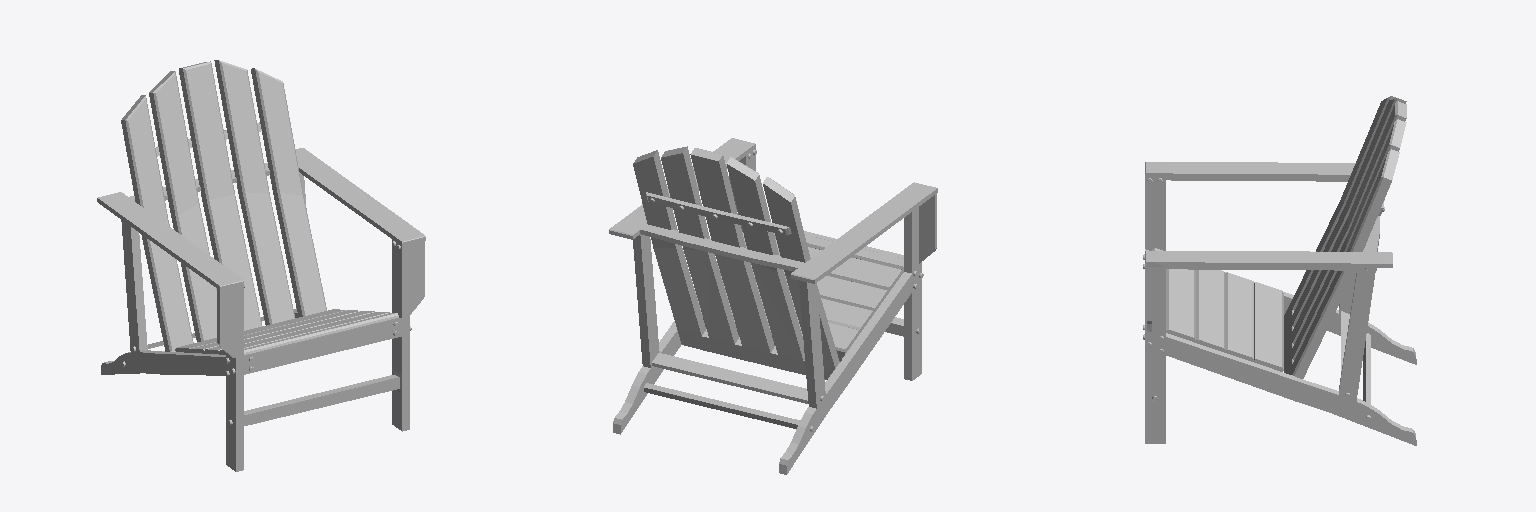
Rendered from Texture_Chair.obj.
3 renders of one model, left to right at view 1: azimuth 30°, elevation 25°; view 2: azimuth 150°, elevation 25°; view 3: azimuth 270°, elevation 25°, orthographic.
Parts seen in each view (by area): view 1: ChairV2 chairBody; view 2: ChairV2 chairBody; view 3: ChairV2 chairBody.
Boxes of the visible parts, x1=… form: ChairV2 chairBody: x1=97, y1=60, x2=425, y2=471; ChairV2 chairBody: x1=609, y1=138, x2=937, y2=474; ChairV2 chairBody: x1=1145, y1=96, x2=1416, y2=445.
Size of the model in its own units: 8.15 by 11.19 by 9.38.